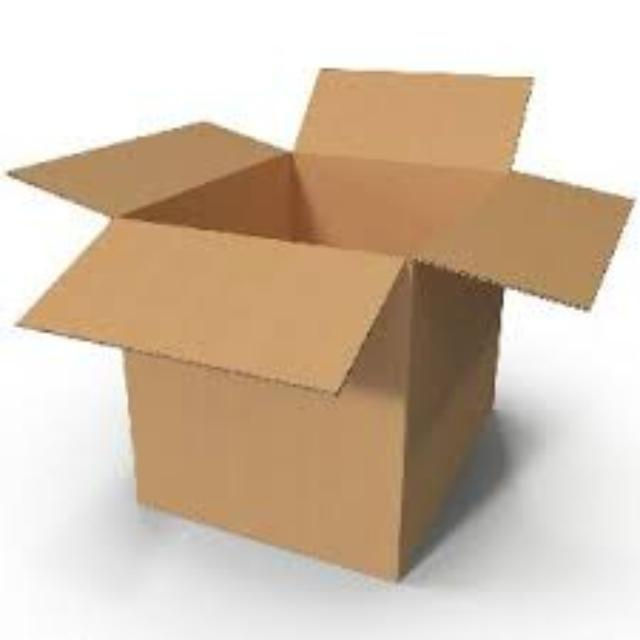cardboard paper: (9, 65, 626, 572)
